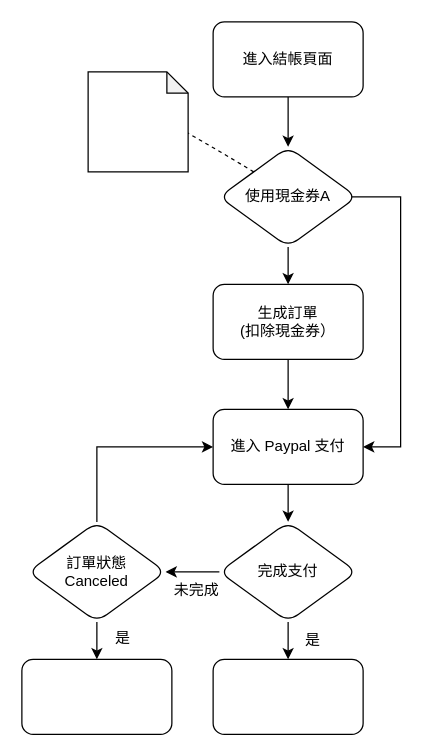
This 433x756 diagram has some shape labels left out. The shapes that lost their labels are listed below. From the top down, each one's box as (x1, y1, x2, y2) in pixels, then its label:
(87, 71, 188, 172): 系統強制 進行計算
(21, 658, 172, 734): 釋放現金券
(212, 658, 363, 734): 完成交易
